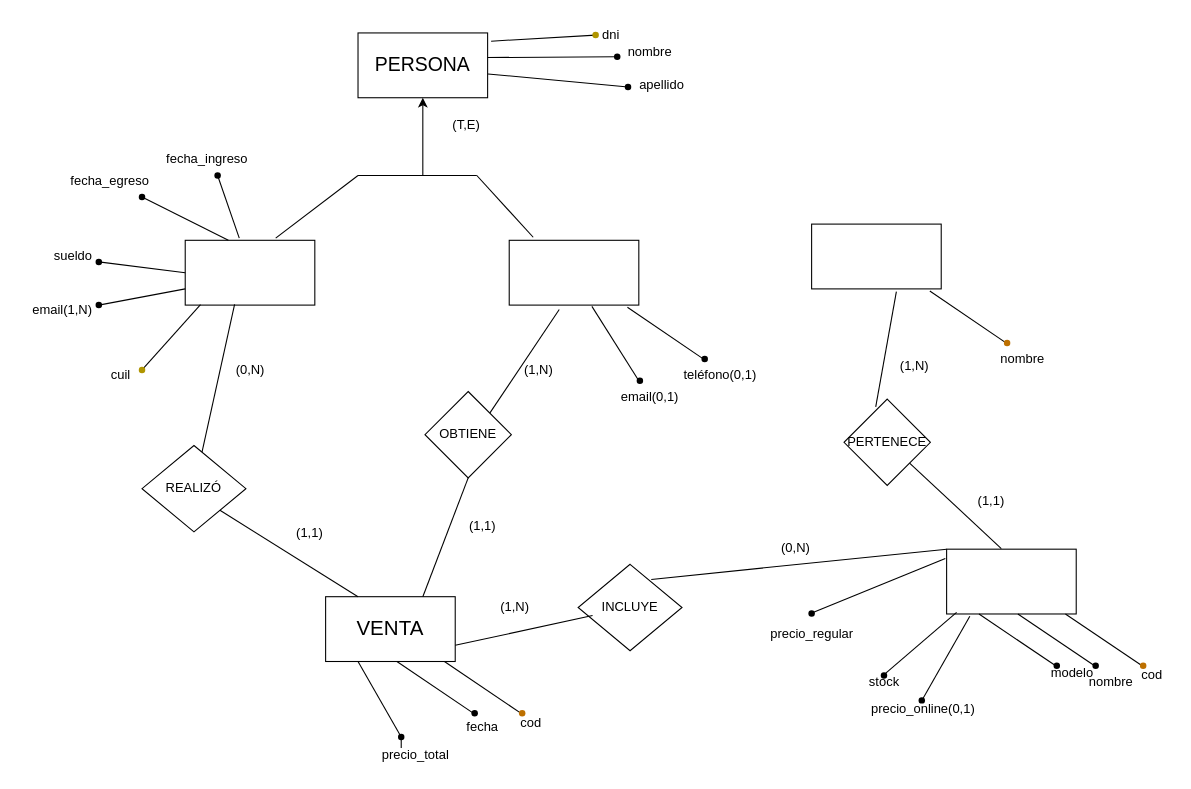
This 1191x789 diagram has some shape labels left out. The shapes that lost their labels are listed below. From the top down, each one's centre as x and y in pixels, then its label:
At [249,272]: "EMPLEADO".
At [573,272]: "CLIENTE".
At [876,256]: "CATEGORÍA".
At [1011,581]: "ELECTRODOMÉSTICO".
